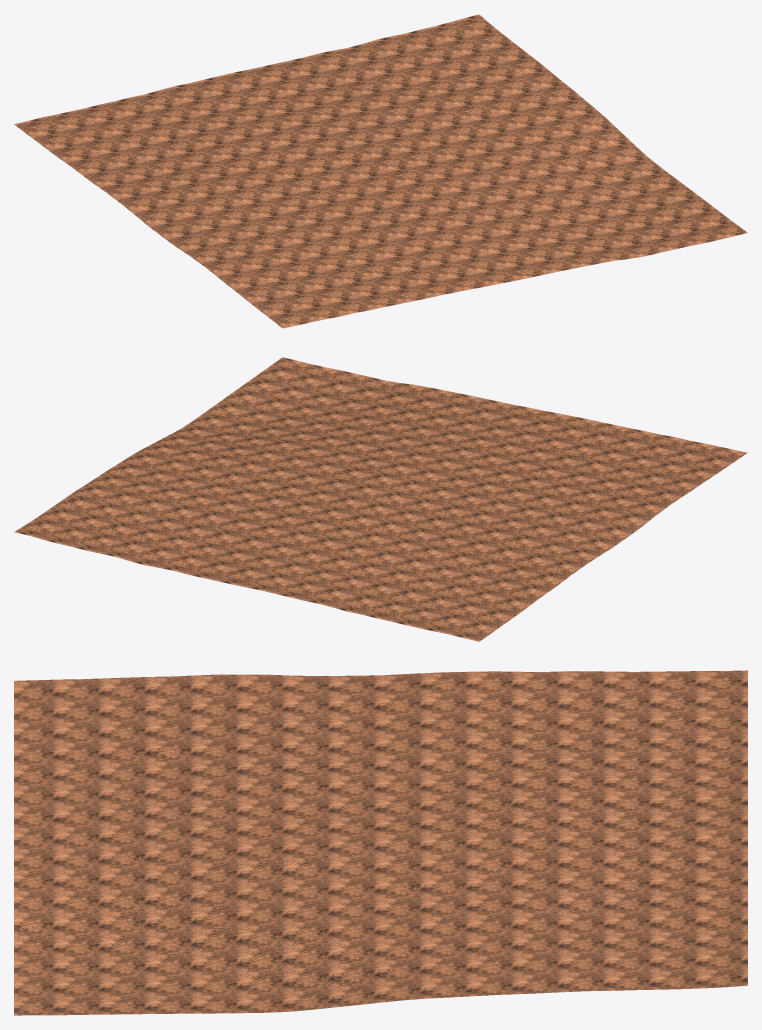
File: terrain_11_22.dae
The picture shows the model from 3 angles, top to bottom: view 1: azimuth 30°, elevation 25°; view 2: azimuth 150°, elevation 25°; view 3: azimuth 270°, elevation 25°; orthographic projection. The views are drawn at different scales.
Visible parts, largest first — view 1: terrain_11_22-node; view 2: terrain_11_22-node; view 3: terrain_11_22-node.
Boxes of the visible parts, x1,y1,x2,y2 form: terrain_11_22-node: (14, 14, 747, 328); terrain_11_22-node: (14, 357, 747, 641); terrain_11_22-node: (14, 670, 747, 1015).
Size of the model in its own units: 128 by 128 by 6.71.
1 material, 1 textured.
